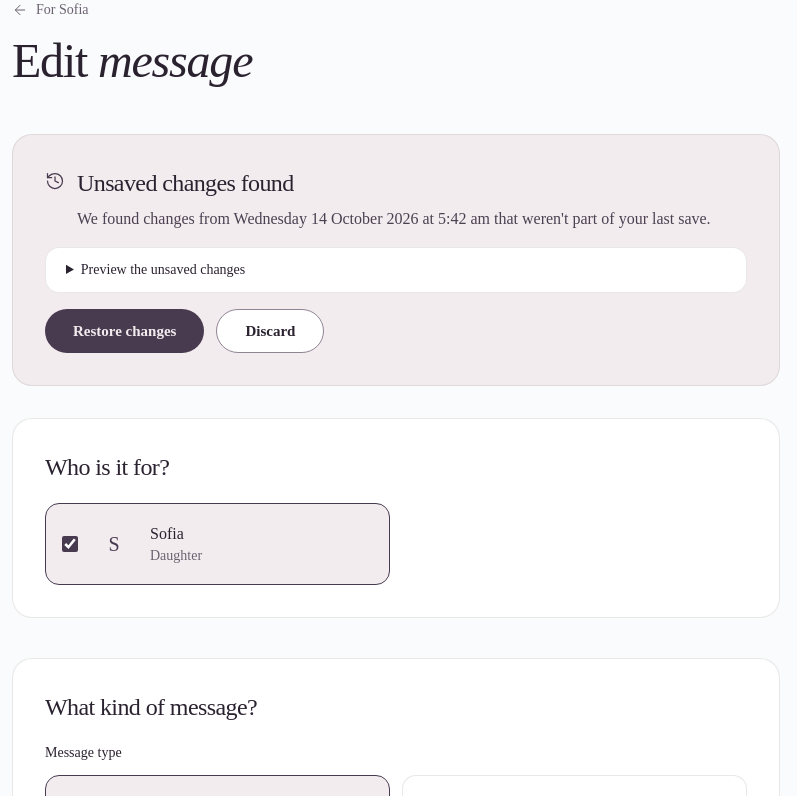
Test: Message recovery › Discard removes the draft and leaves the saved words
This screenshot has width=797, height=796.
Click the button "Discard" at (270, 331), box [216,309,324,353]
(page scrolled)
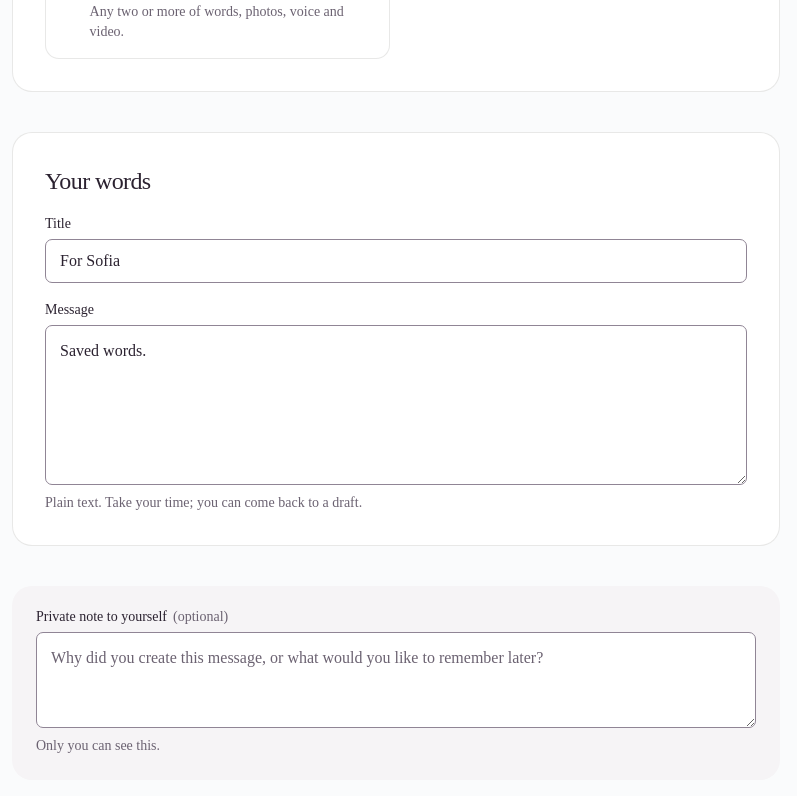
Expected: the text box labelled "Message" holds "Saved words.", [45,325,747,485]
Expected: the heading "Unsaved changes found" is gone
